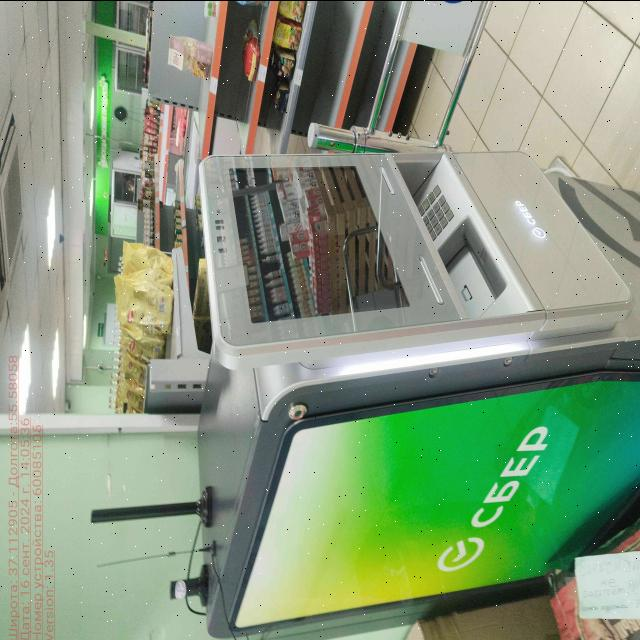bank: (182, 136, 640, 634)
